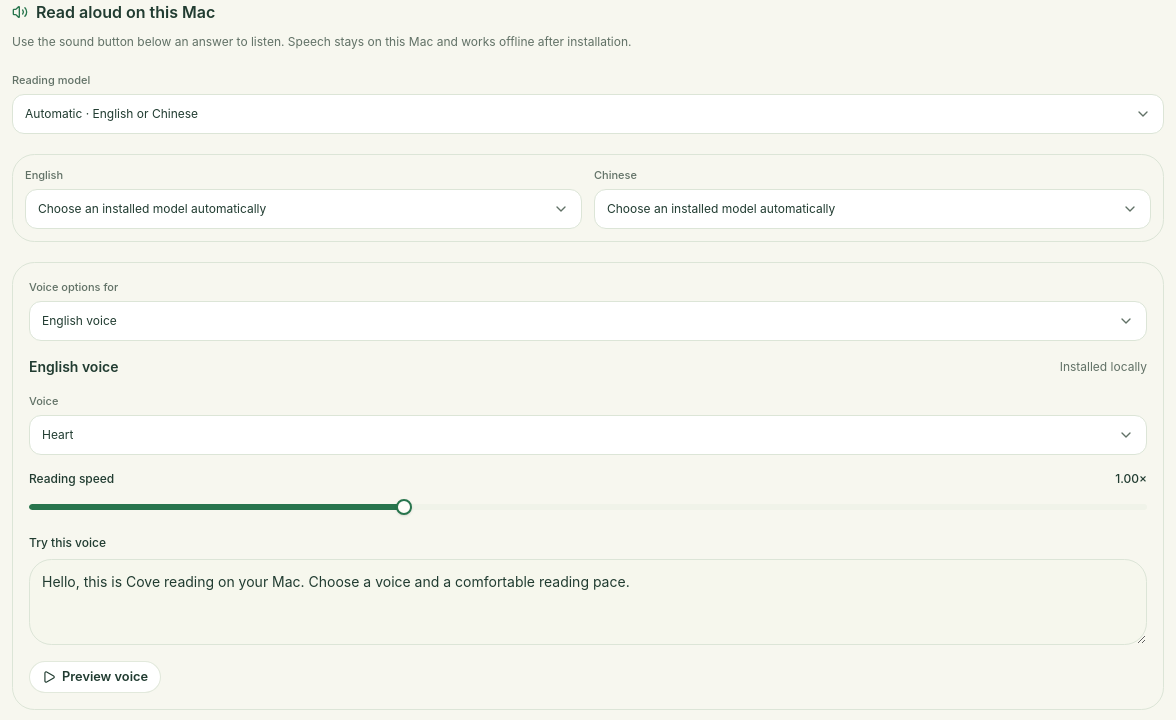
edits made during an in-flight save remain dirty afterward
Click the dropdown named "Speech voice" at (58, 434), box [29, 414, 1147, 454]
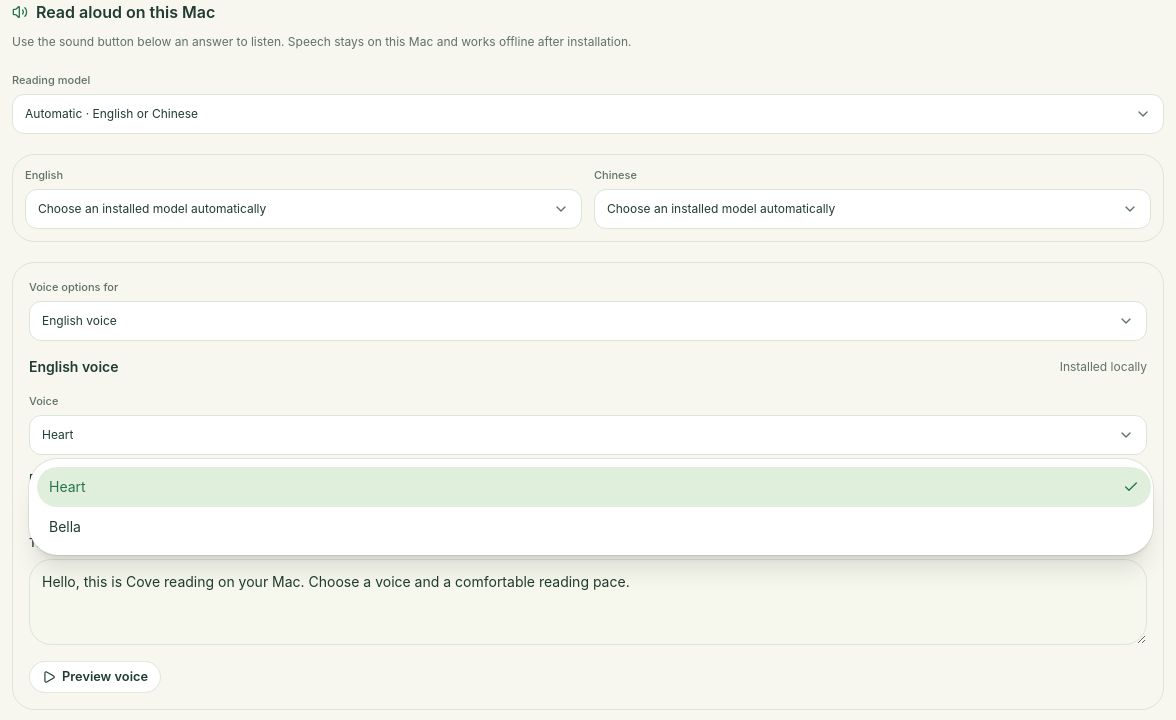
Click the option "Bella" at (65, 526), box [49, 518, 81, 535]
(page scrolled)
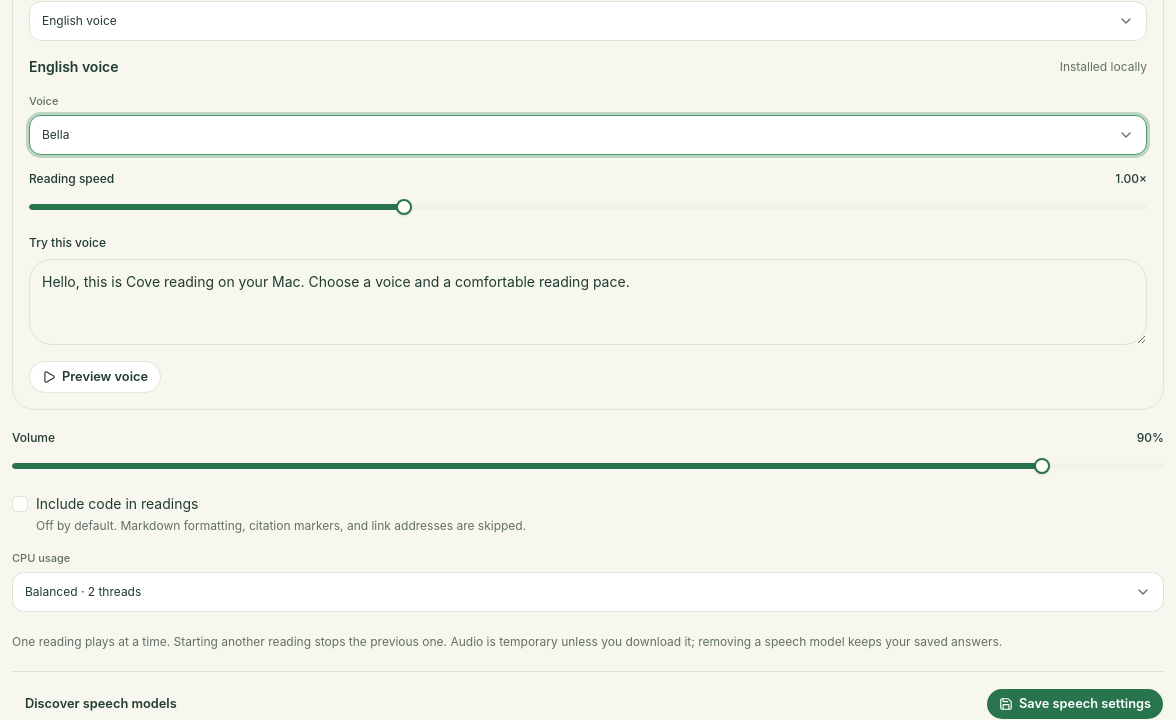
Click the button "Save speech settings" at (1075, 704), box [986, 688, 1164, 719]
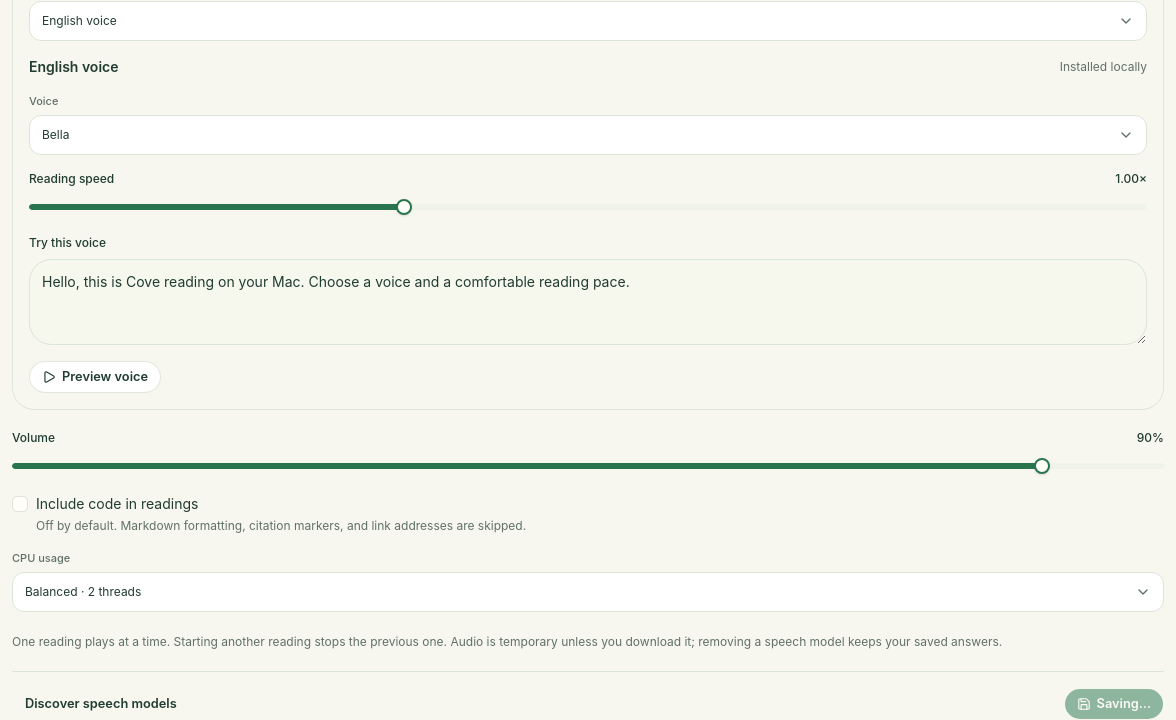
Click the dropdown named "Speech CPU usage" at (83, 591), box [12, 572, 1164, 612]
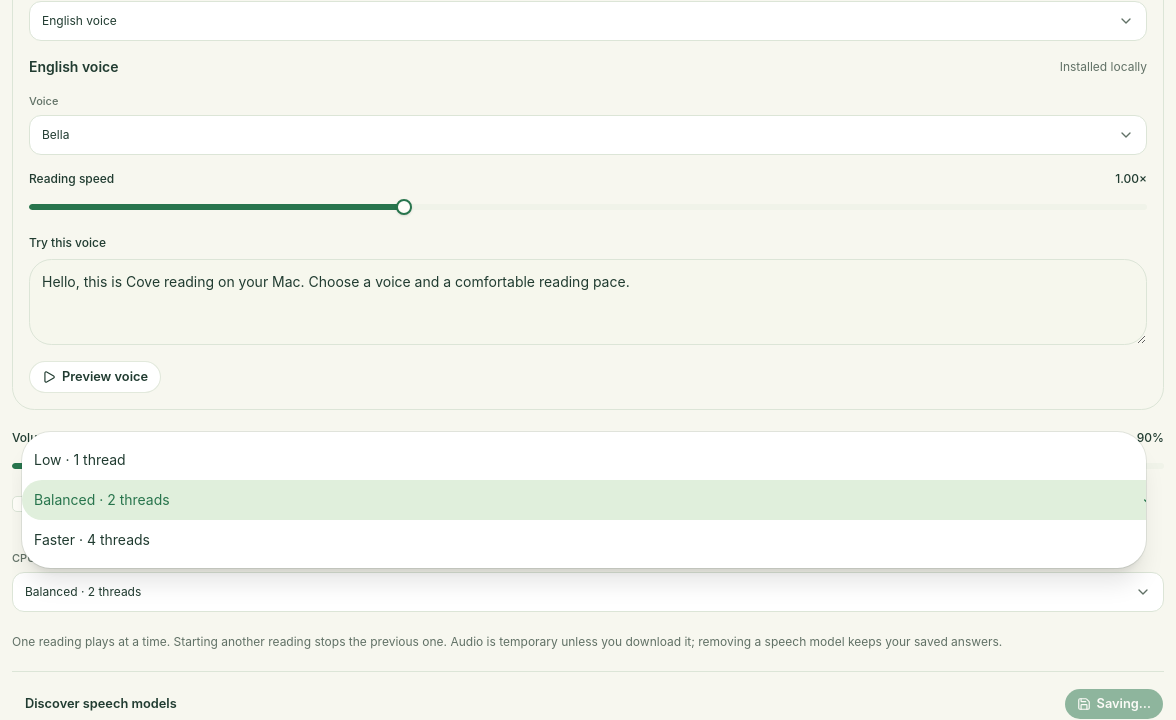
Click the option "Faster · 4 threads" at (92, 540), box [34, 531, 150, 548]
(page scrolled)
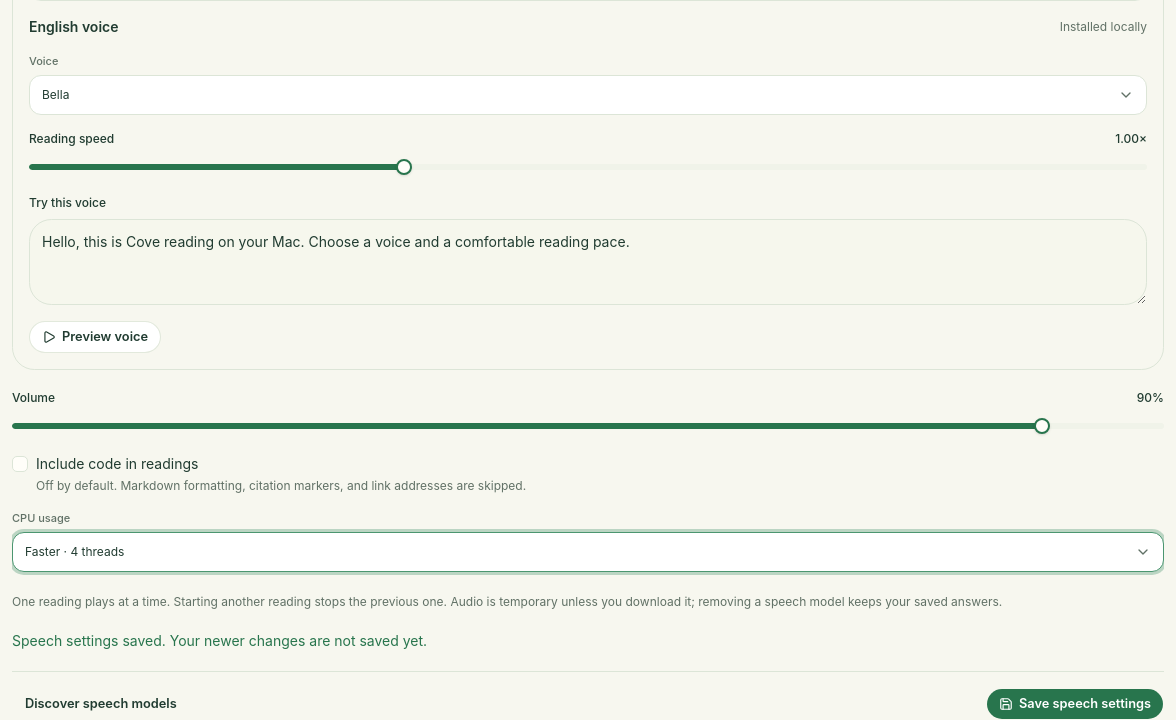
Expected: the text "Speech settings saved. Your newer changes are not saved yet." is shown, [12, 632, 427, 649]
Expected: the dropdown named "Speech CPU usage" shows "Faster", [12, 532, 1164, 572]
Expected: the button "Save speech settings" is enabled, [986, 688, 1164, 719]
